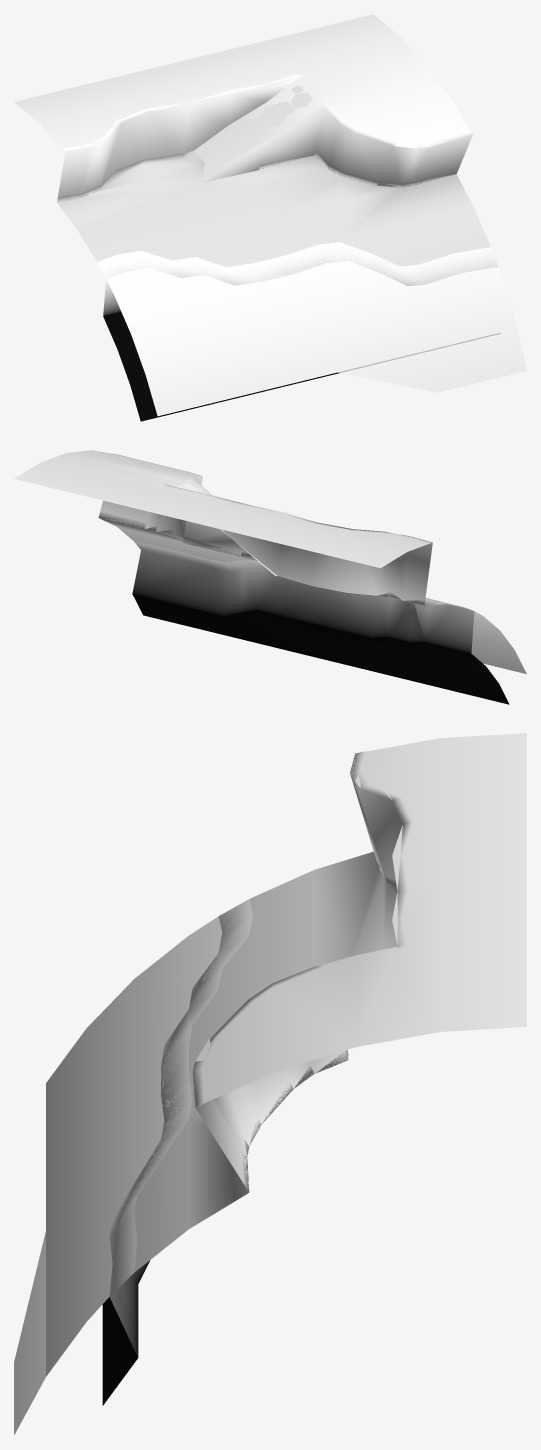
Rendered from grd_Msw_s_S_0.dae.
The picture shows the model from 3 angles, top to bottom: view 1: azimuth 30°, elevation 25°; view 2: azimuth 150°, elevation 25°; view 3: azimuth 270°, elevation 25°; orthographic projection. The views are drawn at different scales.
Parts seen in each view (by area): view 1: ocean_4_0, beach_0_0, grass_3_0, wave_6_0, cliff_2_0, beach_1_0, slope_5_0; view 2: beach_1_0, grass_3_0, cliff_2_0, beach_0_0, ocean_4_0, wave_6_0; view 3: grass_3_0, ocean_4_0, beach_0_0, wave_6_0, beach_1_0, cliff_2_0.
Part boxes in pixels (x1,y1,x2,y2): ocean_4_0: (106,242,517,416); beach_0_0: (57,150,490,267); grass_3_0: (14,14,469,182); wave_6_0: (99,243,526,392); cliff_2_0: (57,73,472,201); beach_1_0: (97,242,499,421); slope_5_0: (205,85,312,167); beach_1_0: (132,541,509,704); grass_3_0: (14,450,430,576); cliff_2_0: (100,455,432,605); beach_0_0: (98,511,463,607); ocean_4_0: (227,560,526,674); wave_6_0: (211,560,513,648); grass_3_0: (193,733,526,1106); ocean_4_0: (46,916,222,1376); beach_0_0: (134,851,397,1272); wave_6_0: (14,901,251,1435); beach_1_0: (102,899,253,1405); cliff_2_0: (192,751,413,1187).
Size of the model in its own units: 512 by 332 by 378.
Materials: 7 (1 with a texture image).
